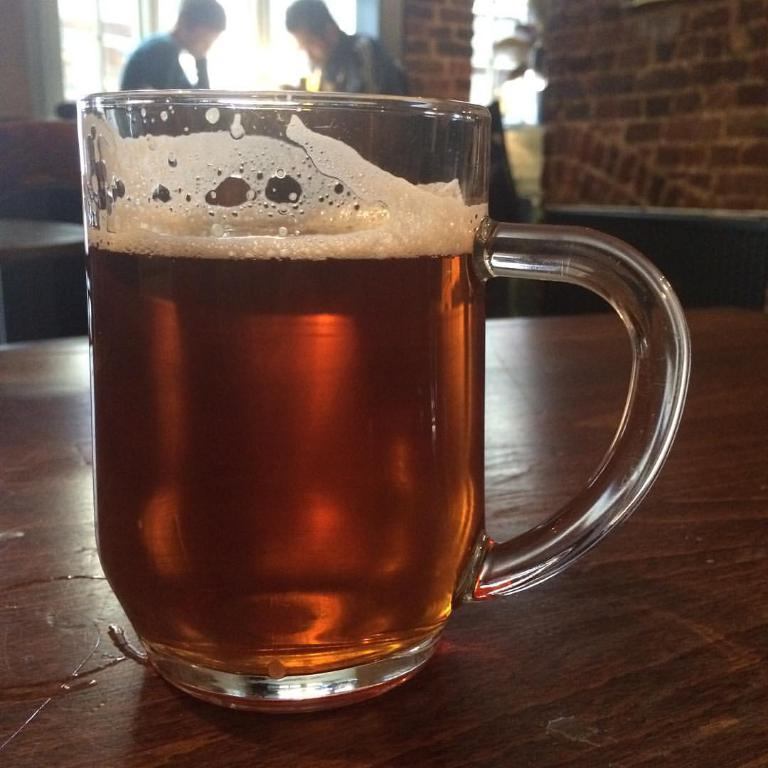Beer: (77, 90, 690, 712)
